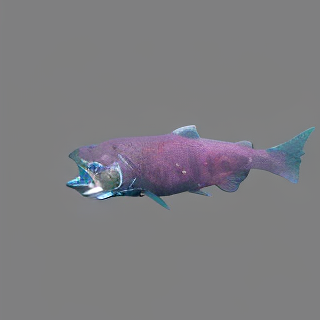Chinook salmon: (60, 123, 320, 212)
